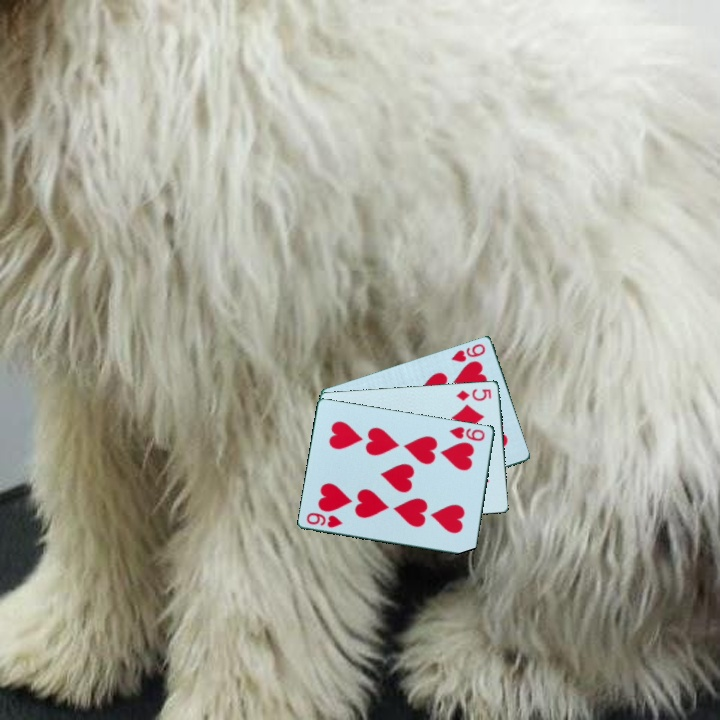5d: (453, 385, 494, 403)
9h: (447, 340, 488, 365), (303, 509, 346, 530), (446, 423, 488, 444)
